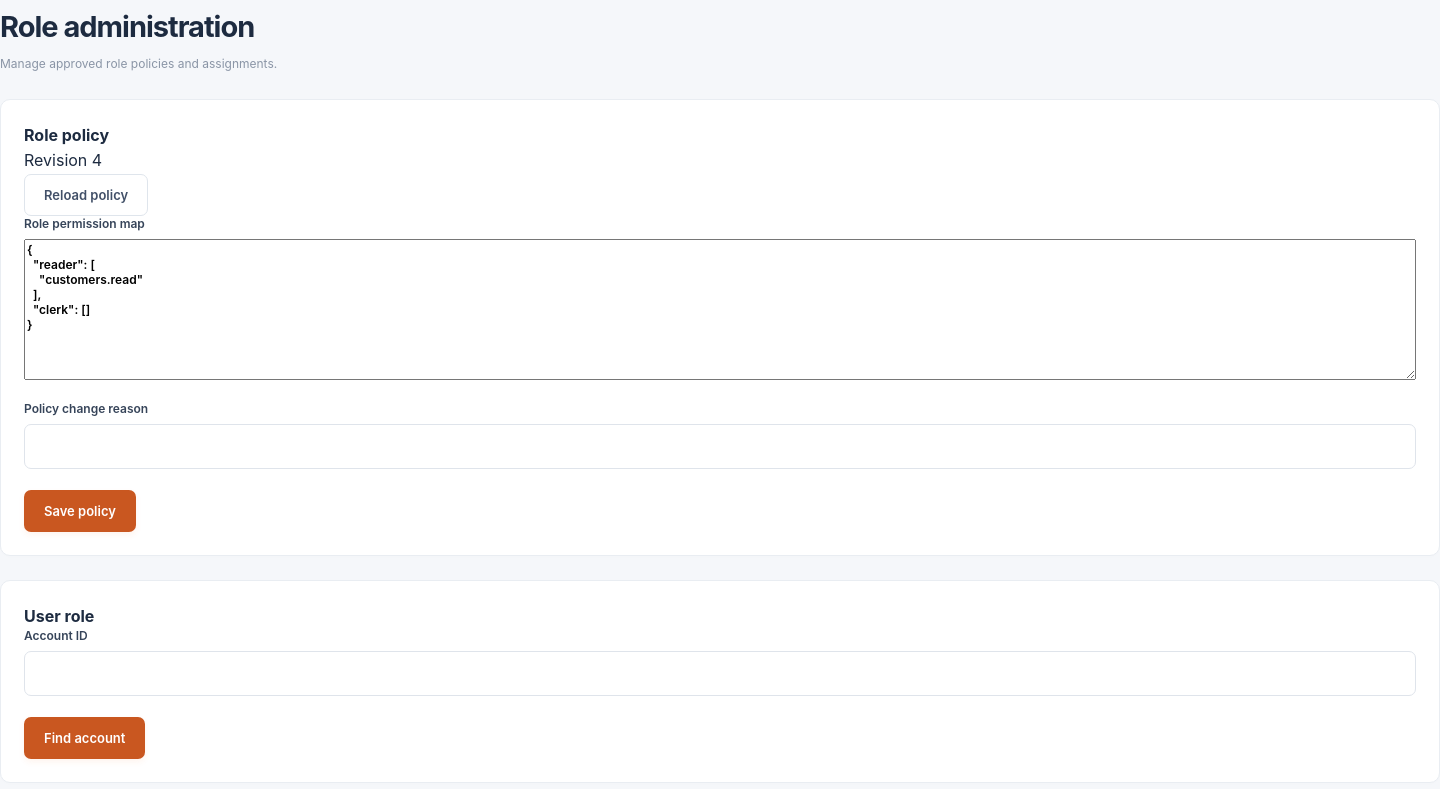
it: reads approved roles and assigns one to an account using the existing audited API
Check: the text "Revision 4" is shown, box 24,150 -> 102,170
Step 1. Type "account-1" into the field labelled "Account ID" → (720, 673), box 24,651 -> 1416,696
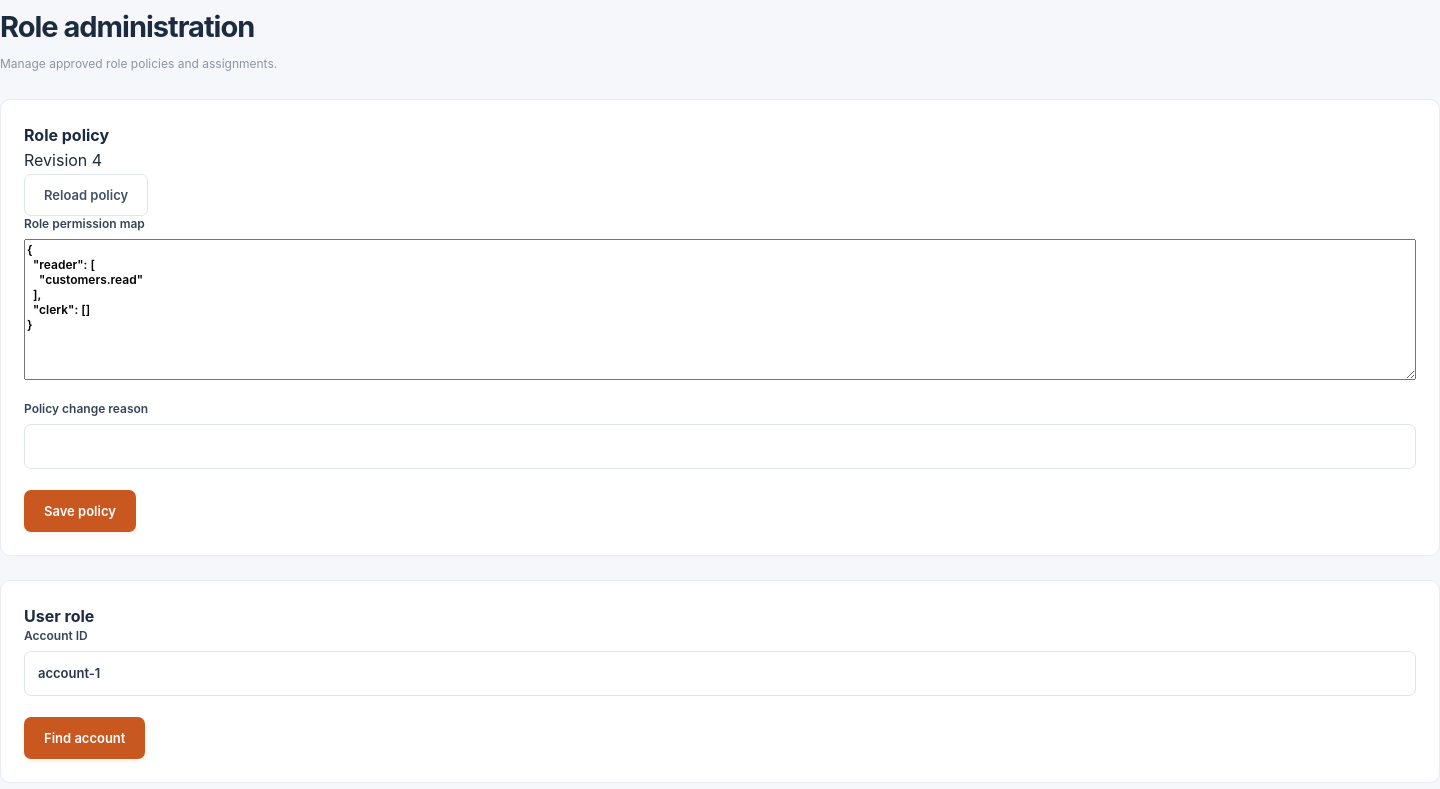
Step 2. Click the button "Find account" → (85, 738), box 24,717 -> 145,759
(page scrolled)
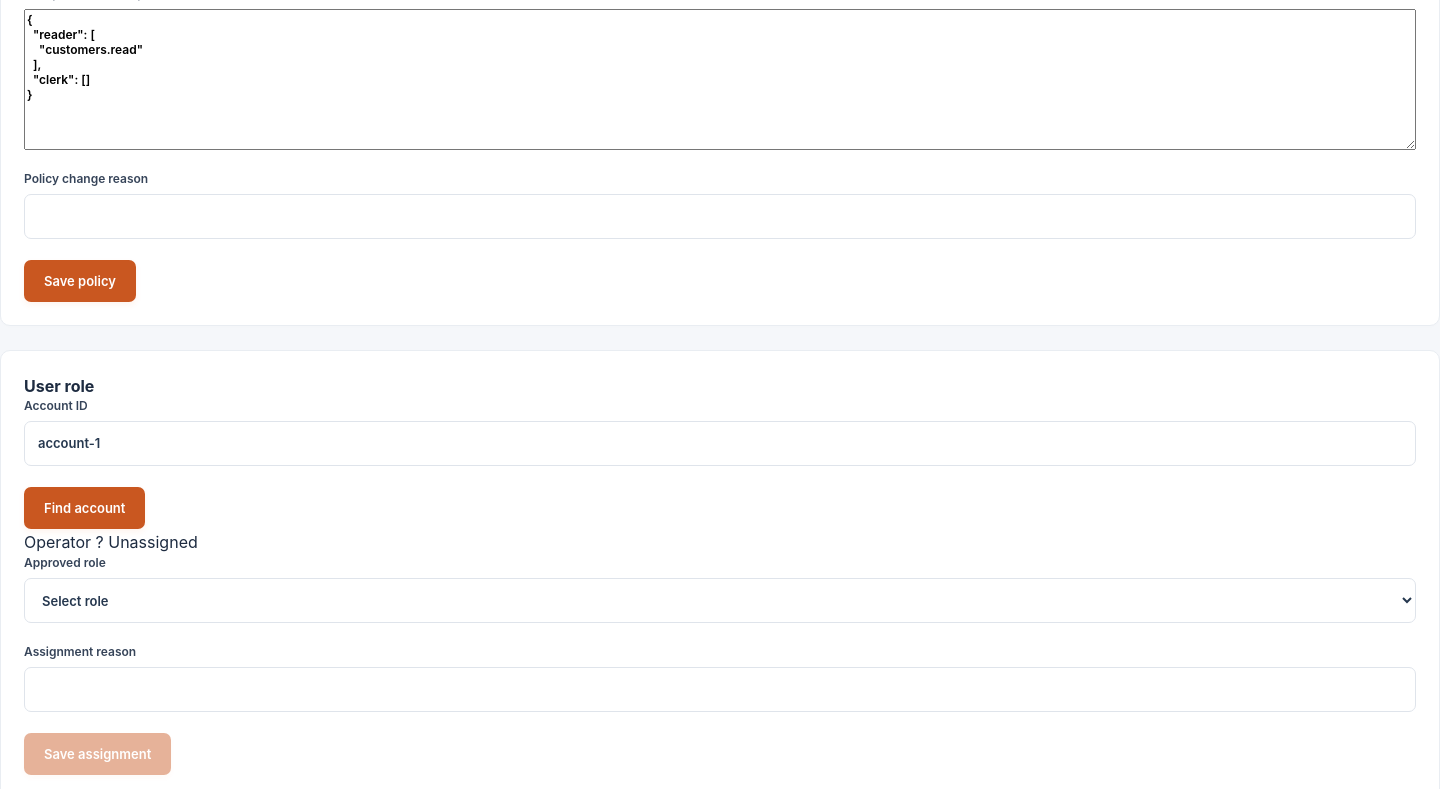
Step 3. Select "reader" in the dropdown labelled "Approved role" → (720, 601), box 24,578 -> 1416,623
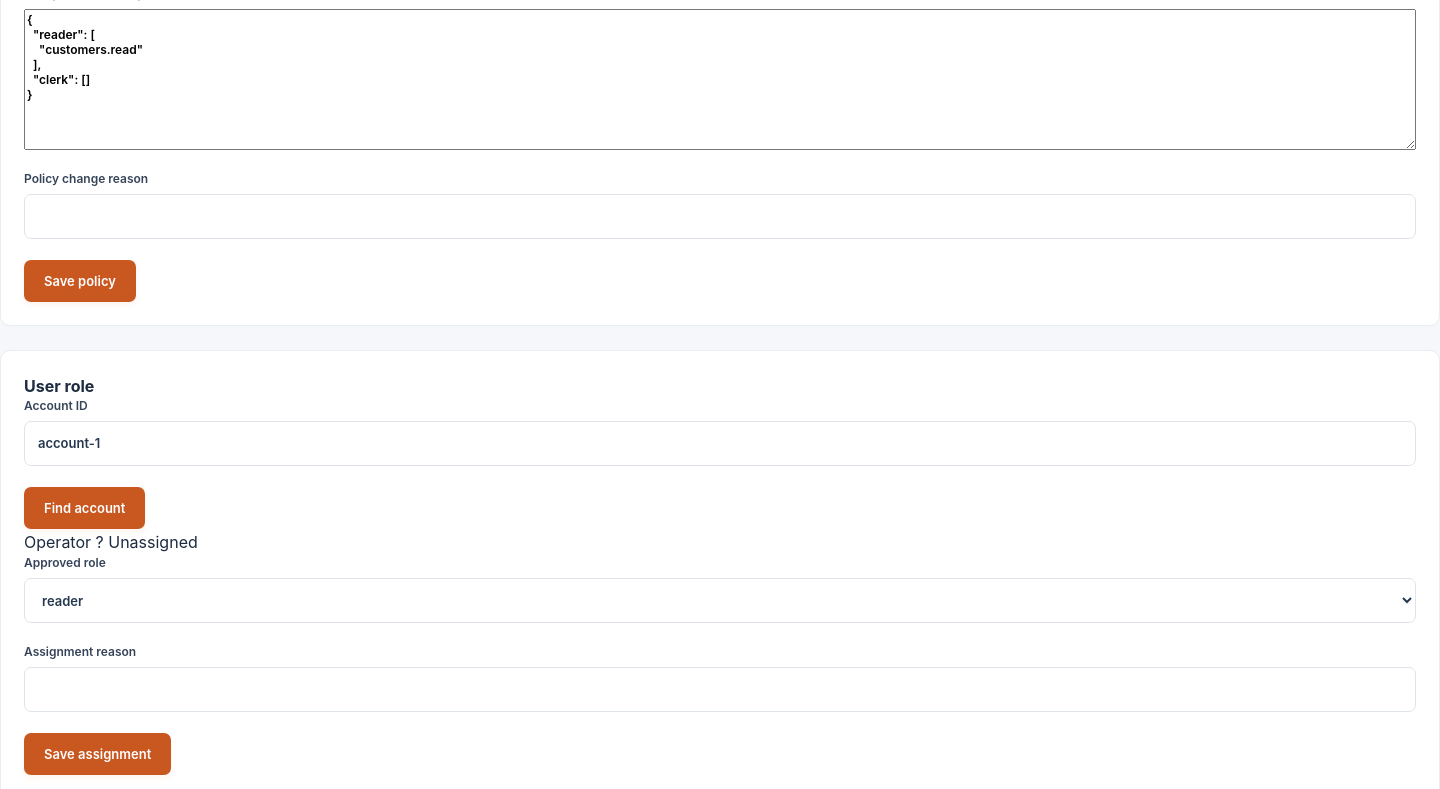
Step 4. Type "Approved desk duties" into the field labelled "Assignment reason" → (720, 690), box 24,667 -> 1416,712
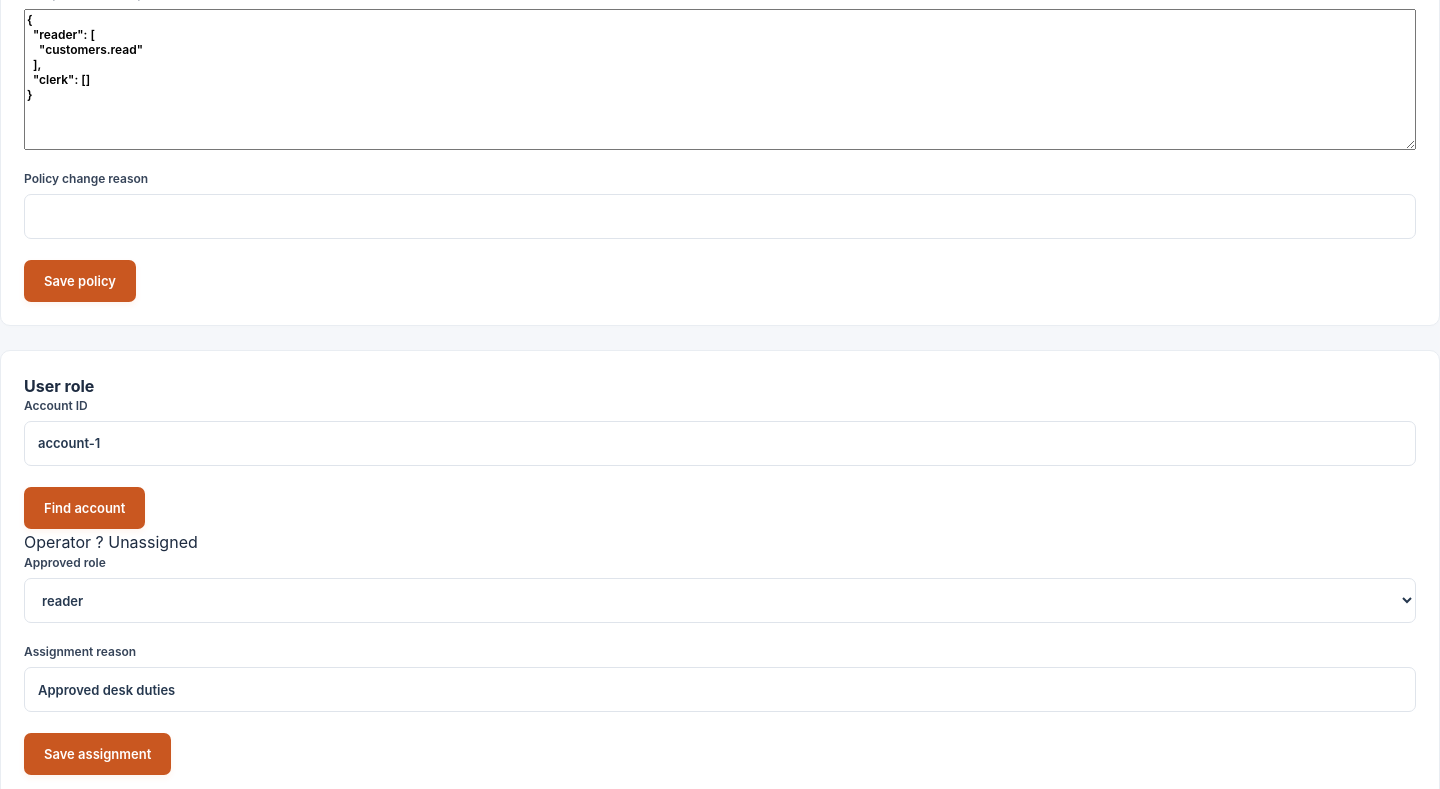
Step 5. Click the button "Save assignment" → (98, 754), box 24,733 -> 171,775
(page scrolled)
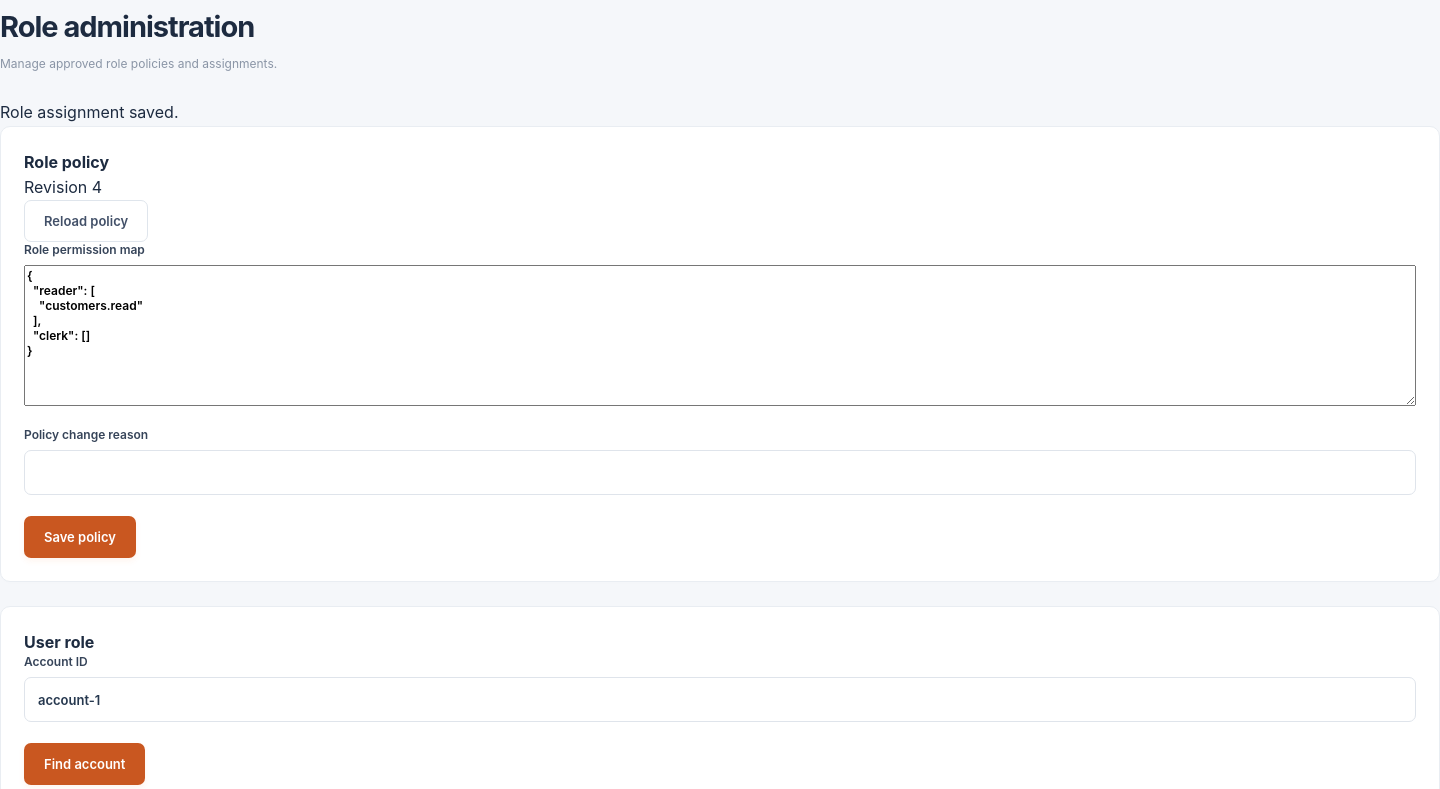
Check: the text "Role assignment saved." is shown, box 0,102 -> 178,122
